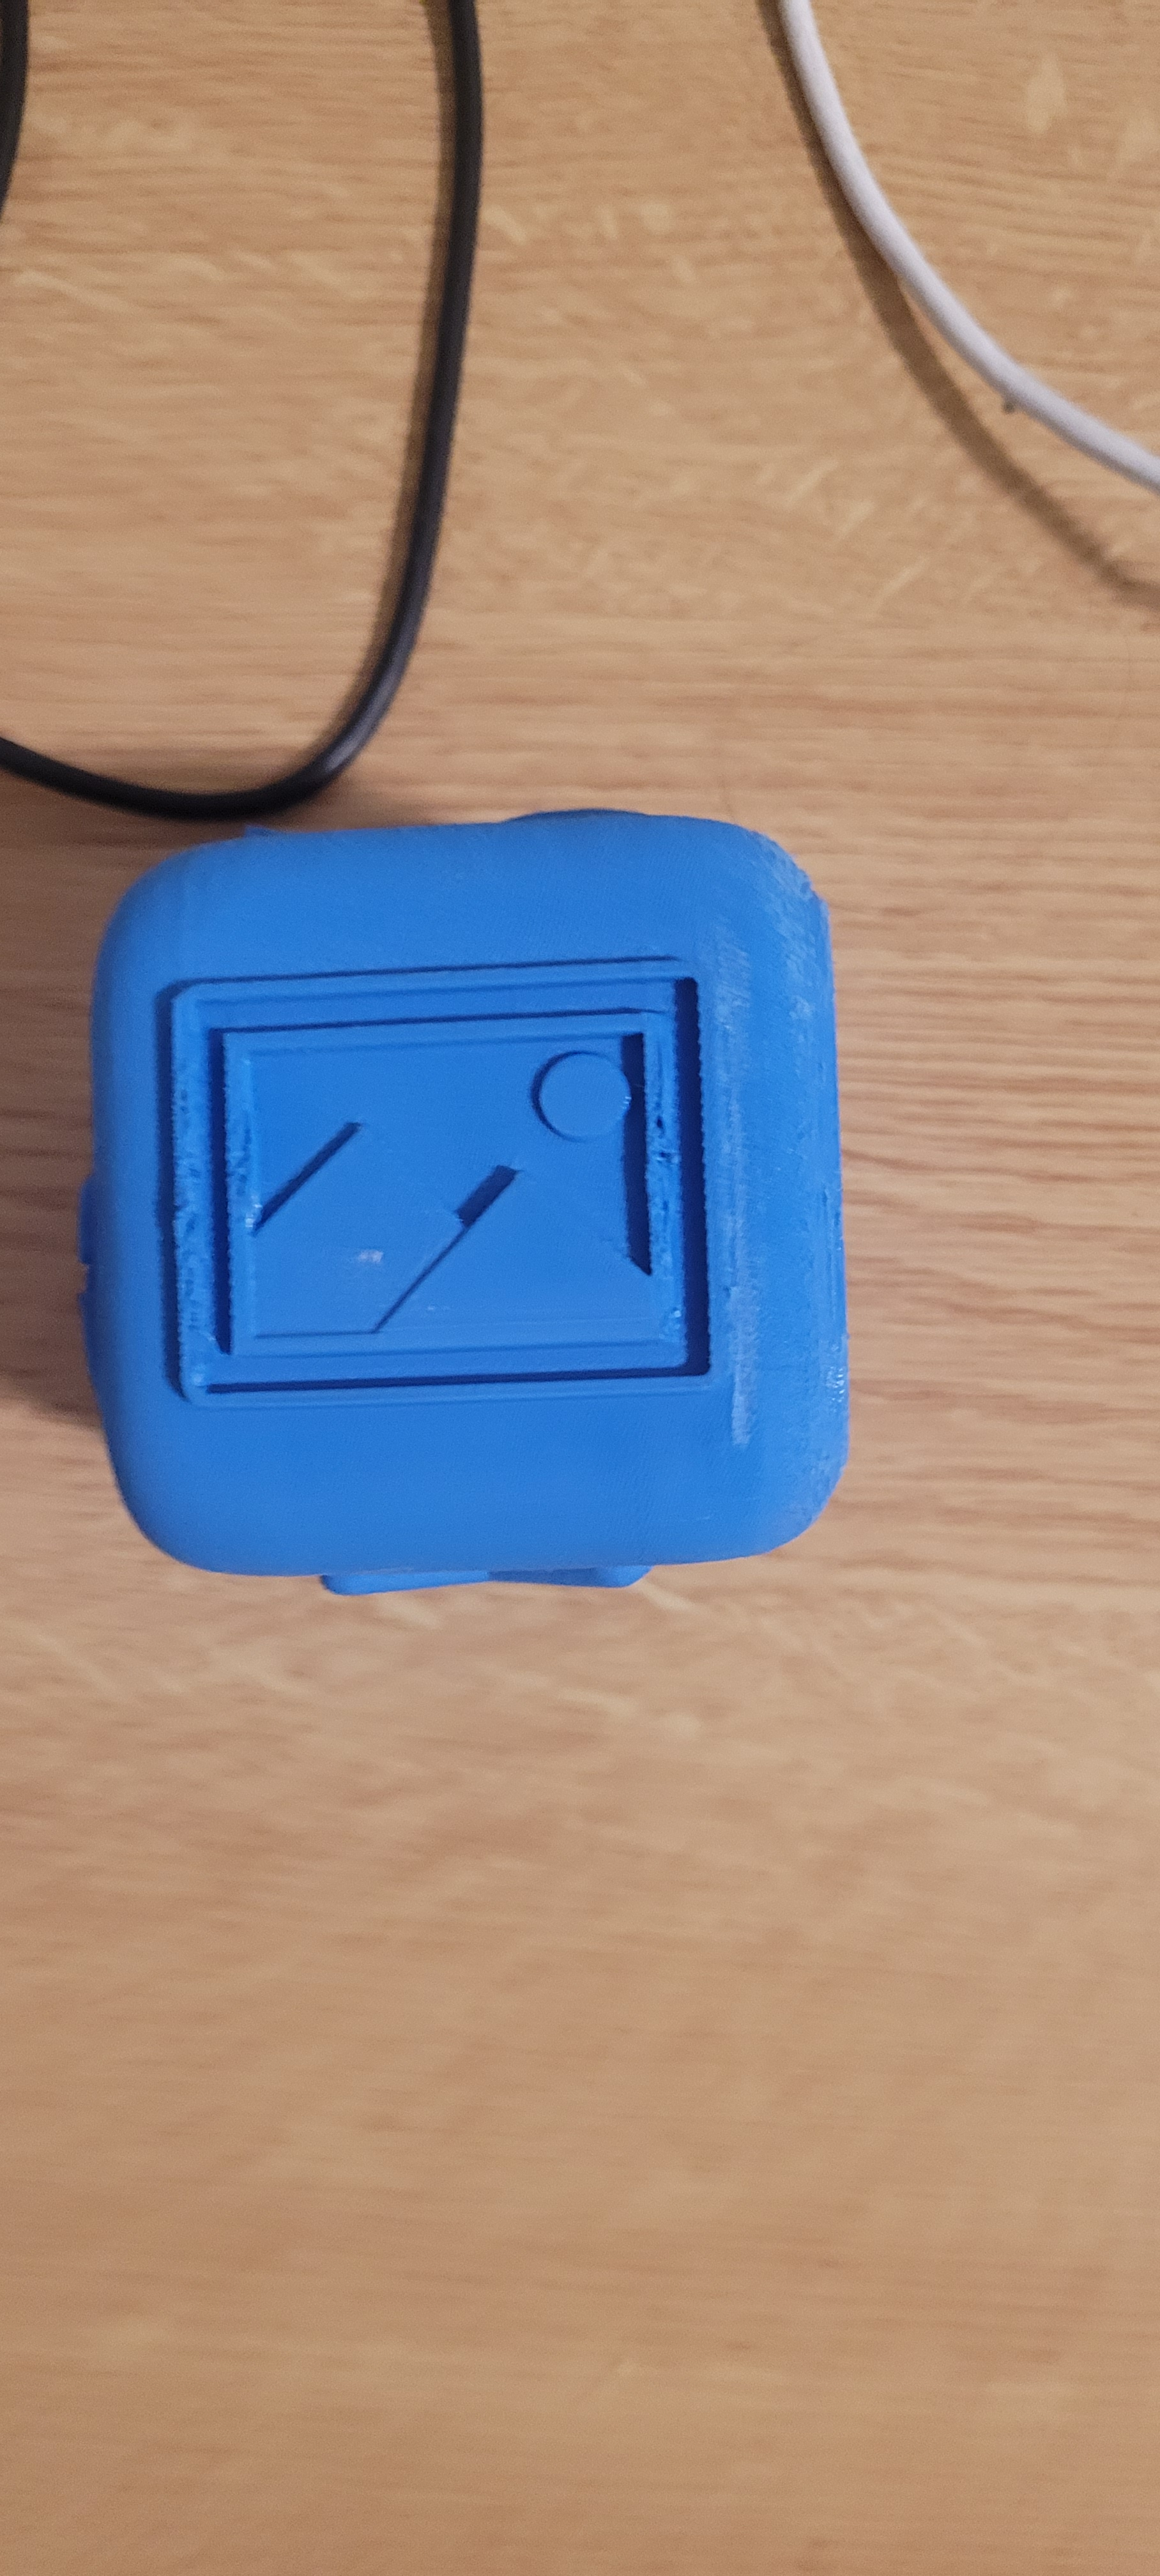Story: (108, 917, 751, 1480)
